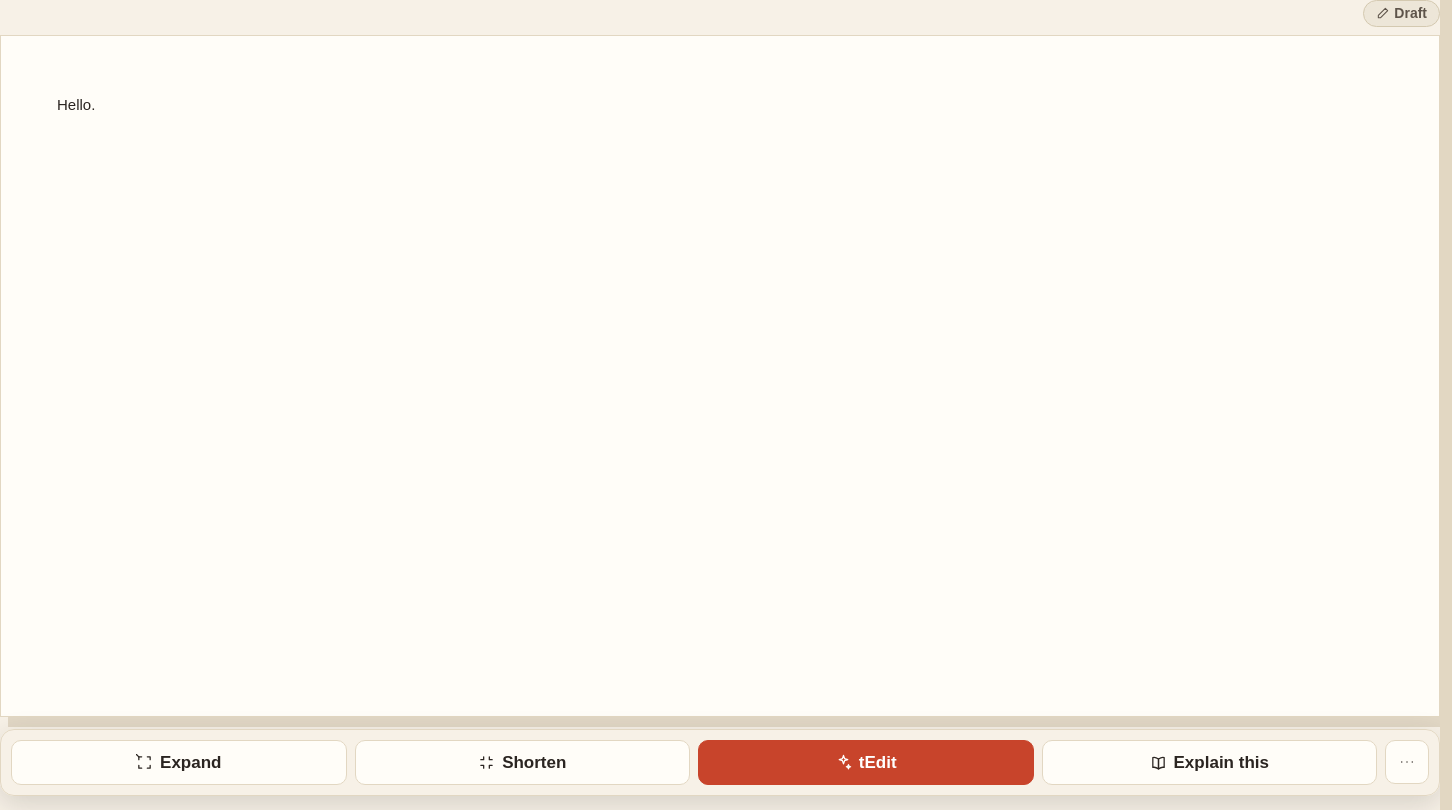
Scenario: SectionEditor › keeps tEdit hidden until the user opens it
This screenshot has width=1452, height=810.
Click the button "tEdit": (866, 762) [698,740,1034,785]
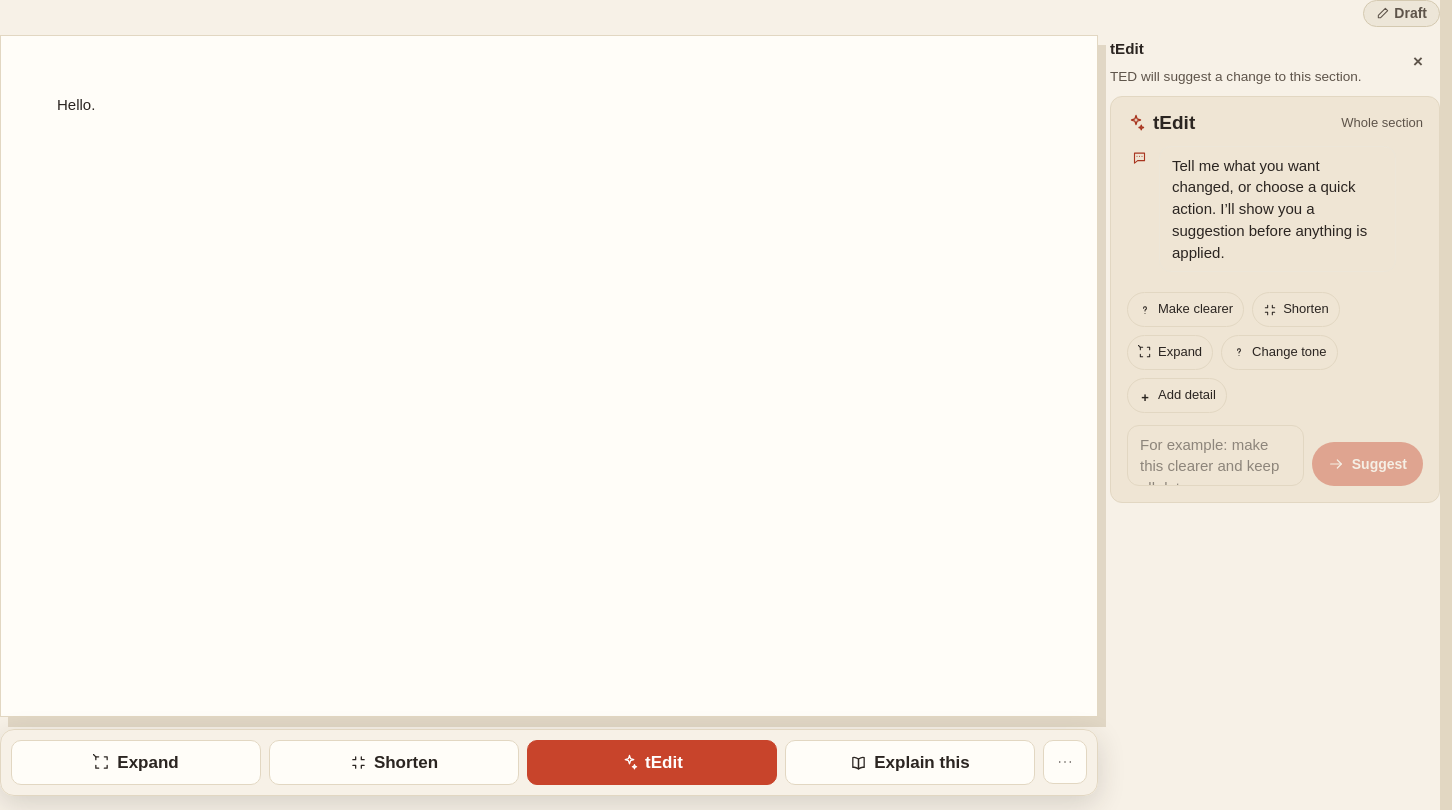
expect the element "tEdit" is shown: met, box [1110,35,1440,796]
